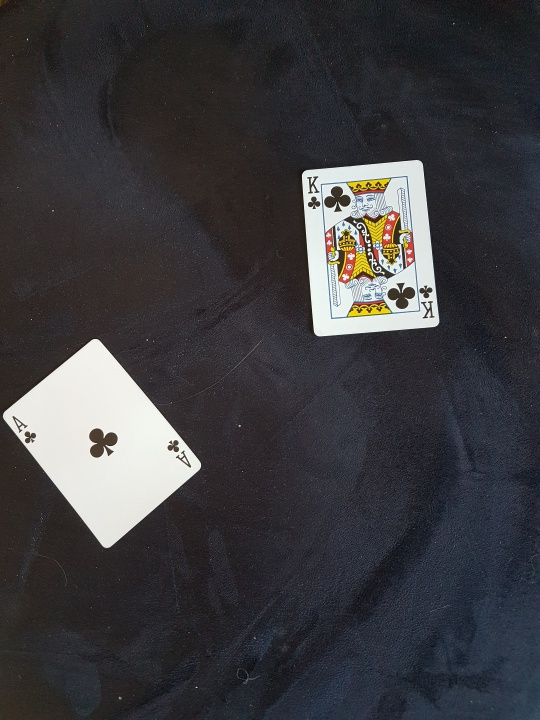ace: (2, 303, 224, 554)
king: (285, 154, 450, 343)
